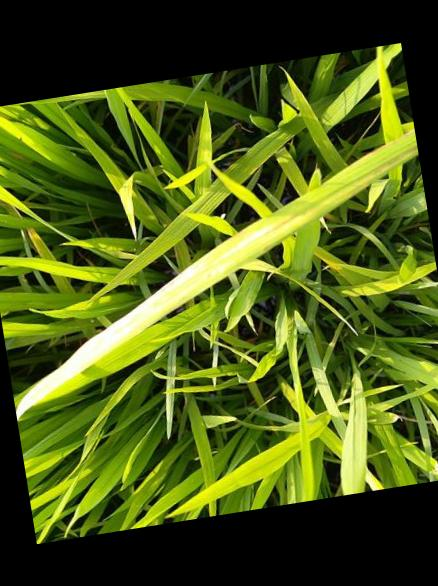Leaf Streak: (16, 175, 371, 421)
